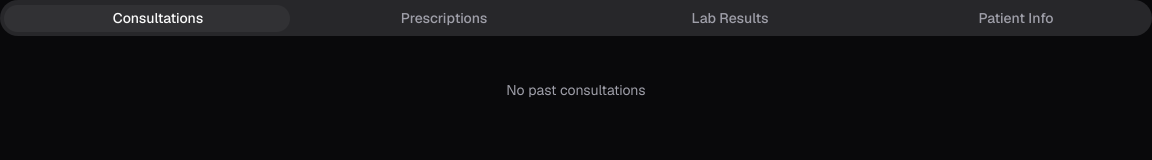
PatientTimeline › shows prescription with item count
Click Prescriptions tab
Click the tab "Prescriptions": (433, 18) [290, 4, 576, 32]
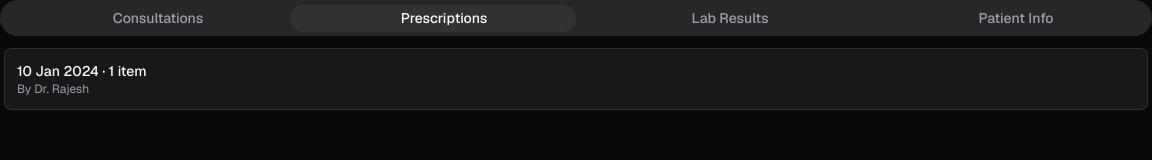
Result: the text "10 Jan 2024 · 1 item" is shown at [17, 61, 147, 81]
